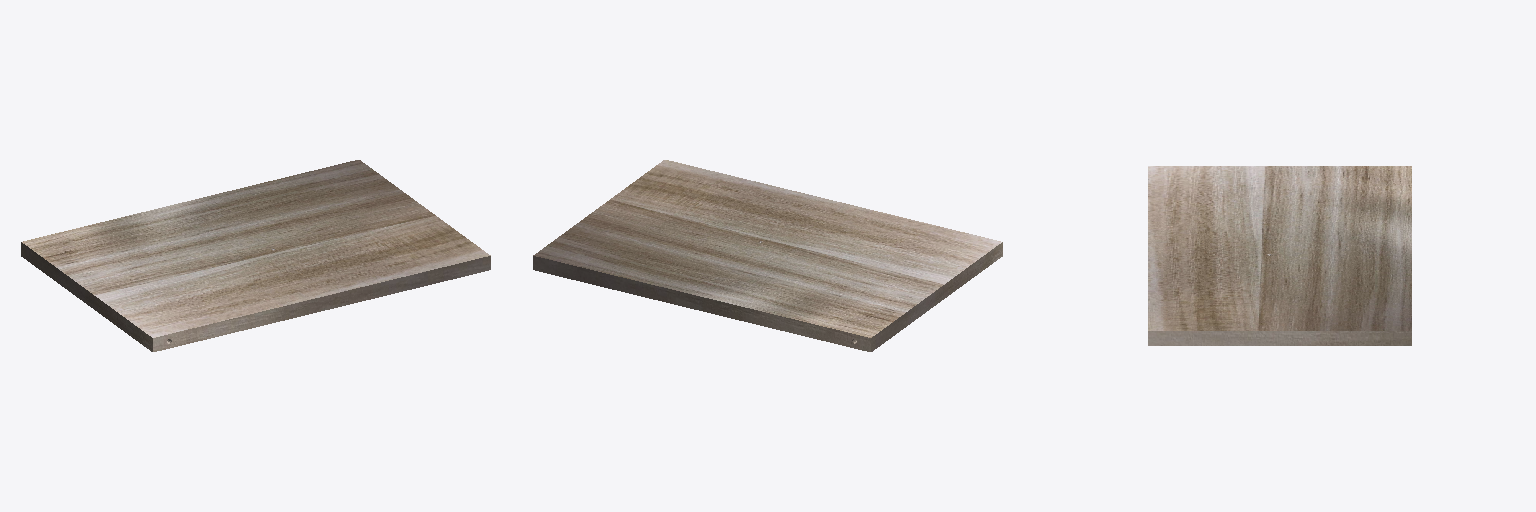
3 views of the same model, side by side, from view 1: azimuth 30°, elevation 25°; view 2: azimuth 150°, elevation 25°; view 3: azimuth 270°, elevation 25° (orthographic).
Visible parts, largest first — view 1: Link3; view 2: Link3; view 3: Link3.
Part boxes in pixels (bbox=[...]): Link3: bbox=[21, 160, 490, 351]; Link3: bbox=[533, 160, 1002, 351]; Link3: bbox=[1148, 166, 1411, 345].
Bounding box in the file's own units: 0.367 × 0.015 × 0.2475.
Materials: 1 (1 with a texture image).